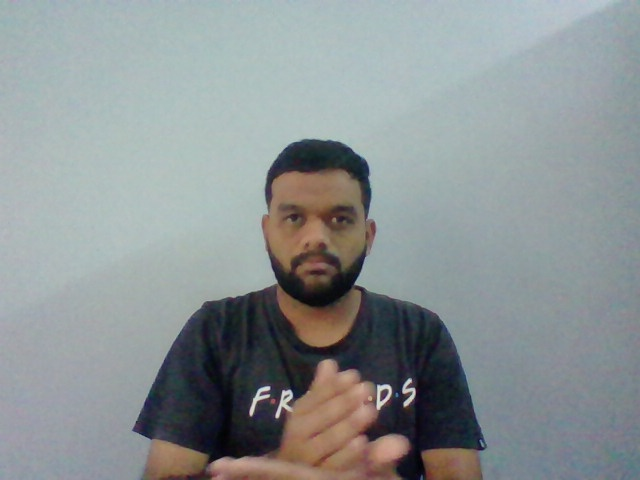Stop: (205, 355, 415, 480)
